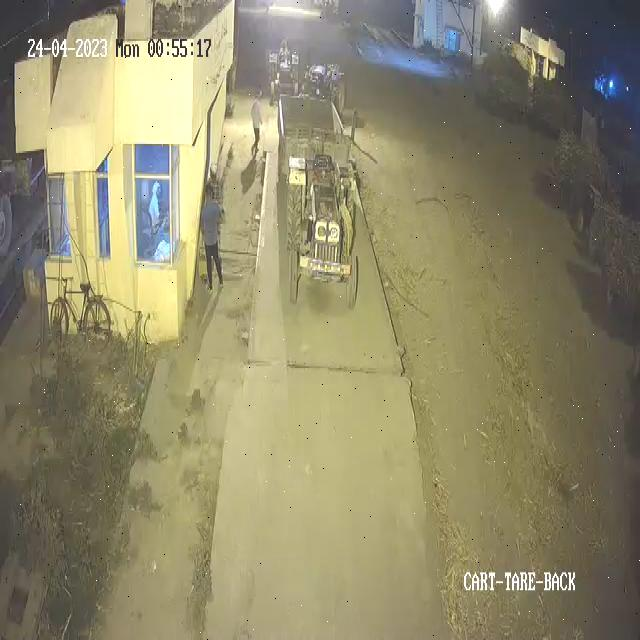Tratores - v5 YOLO V8L 2024-11-13: (280, 165, 365, 318), (306, 50, 346, 108)
